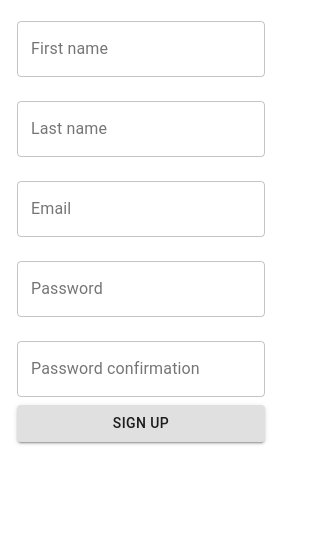
it: SignUpPage › with invalid data › does not submit form when user does not fill all requeired fileds
Click the button with test id "signup-button" at [141, 423], box [17,405,265,442]
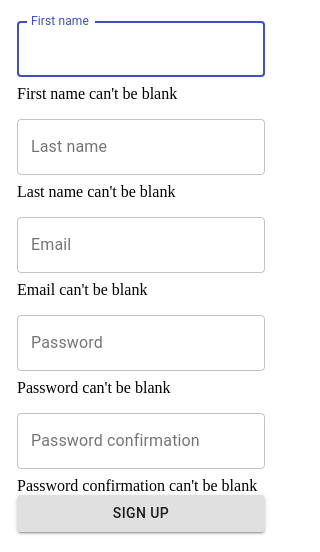
Now the text "First name can't be blank" is shown, box [17,85,177,102]
Now the text "Last name can't be blank" is shown, box [17,183,175,200]
Now the text "Email can't be blank" is shown, box [17,281,147,298]
